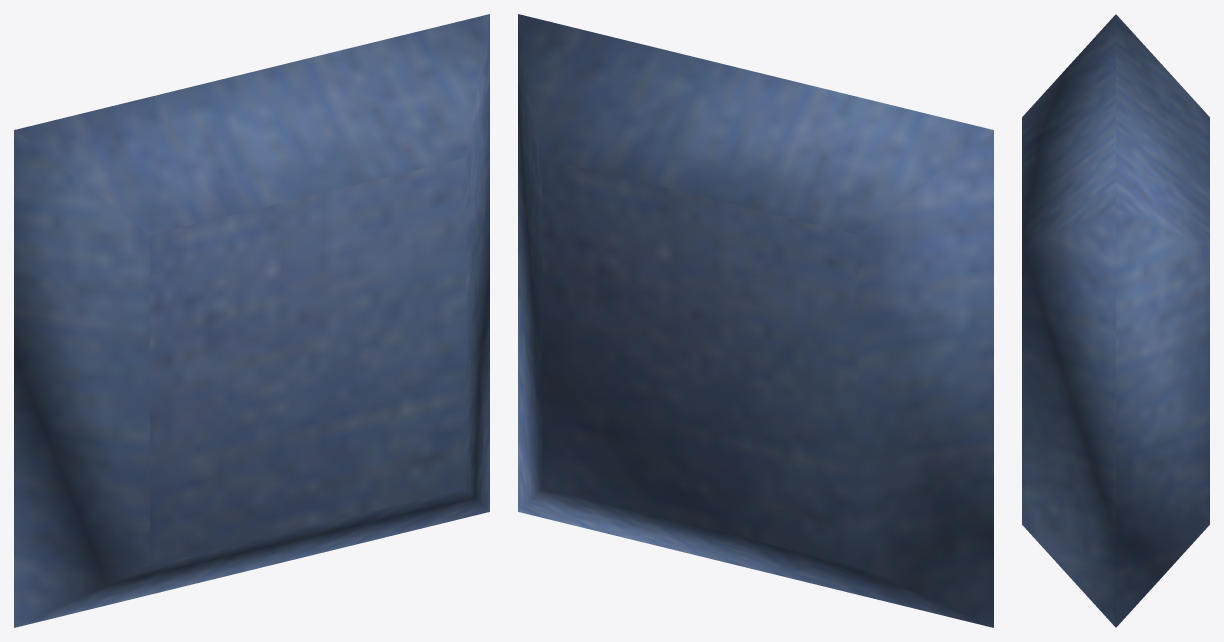
File: SquarePillow_3.fbx
3 views of the same model, side by side, from view 1: azimuth 30°, elevation 25°; view 2: azimuth 150°, elevation 25°; view 3: azimuth 270°, elevation 25° (orthographic). The views are drawn at different scales.
Visible parts, largest first — view 1: ThrowPillow_Blue_01; view 2: ThrowPillow_Blue_01; view 3: ThrowPillow_Blue_01.
Boxes of the visible parts, x1=… form: ThrowPillow_Blue_01: x1=14, y1=14, x2=489, y2=627; ThrowPillow_Blue_01: x1=518, y1=14, x2=993, y2=627; ThrowPillow_Blue_01: x1=1022, y1=14, x2=1209, y2=627.
Size of the model in its own units: 0.5193 by 0.5193 by 0.211.
